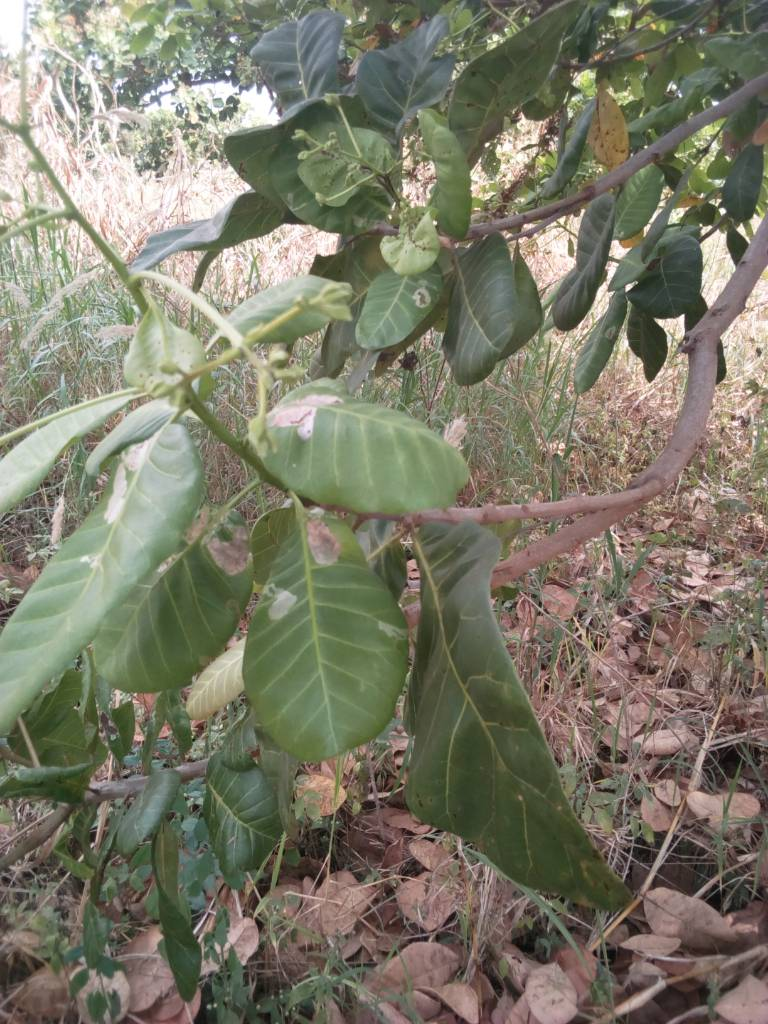Dysdercus wolkerii: (205, 497, 424, 761)
